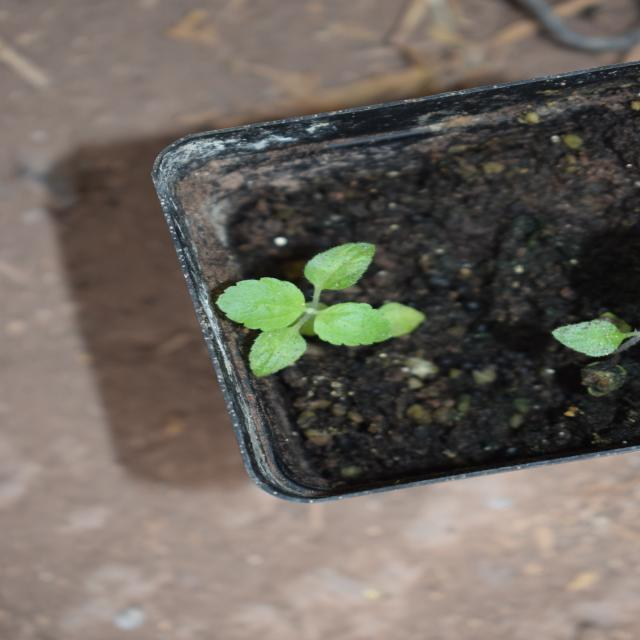billygoat_weed: (213, 244, 381, 424)
